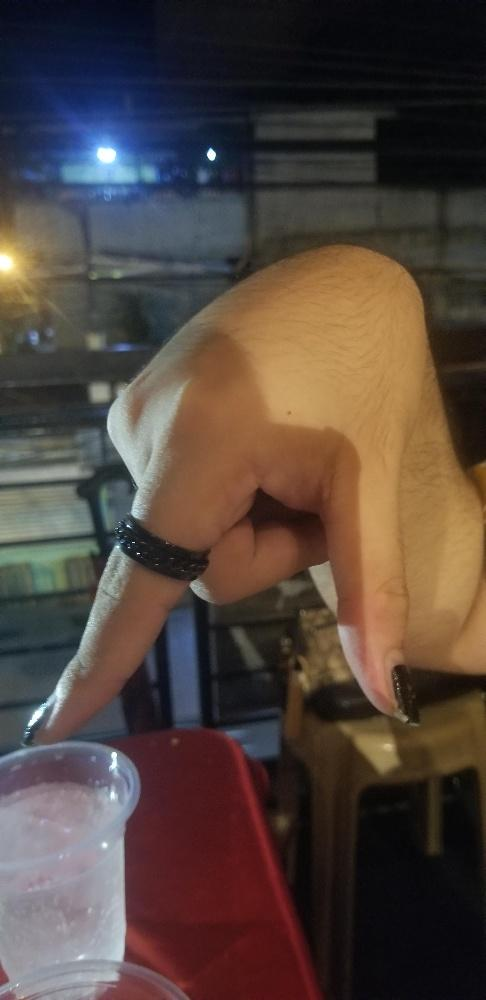q: (19, 244, 428, 753)
